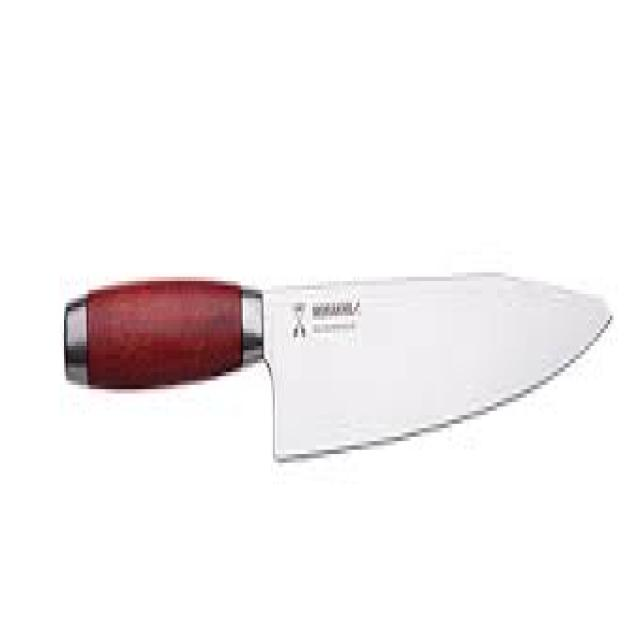knives: (60, 259, 616, 472)
